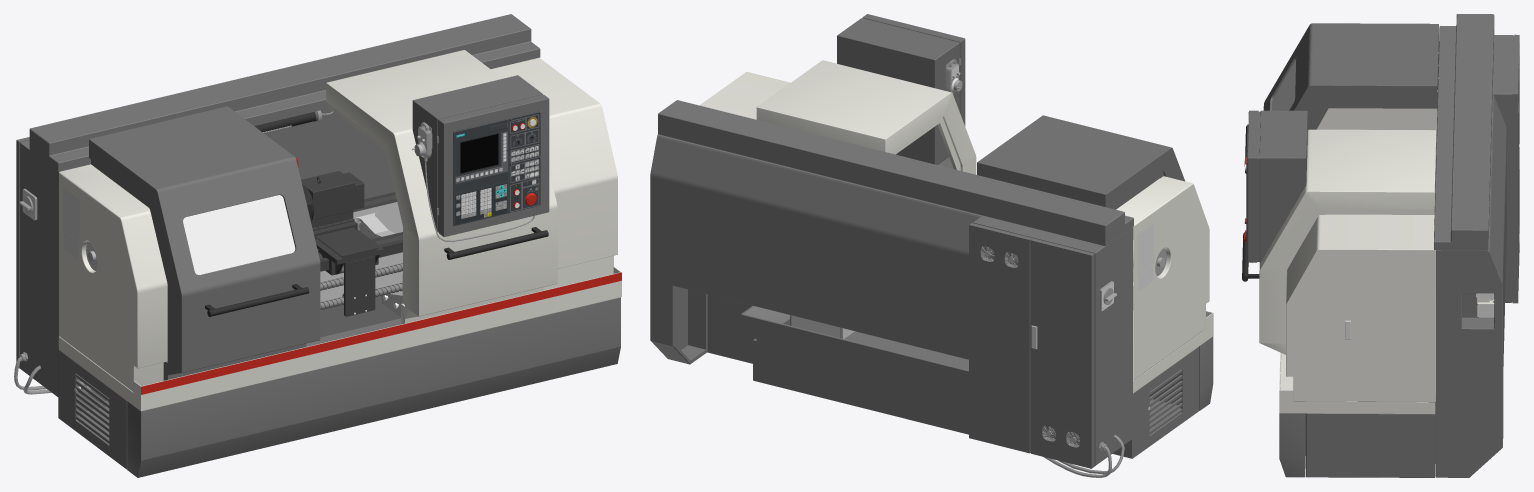
Rendered from machine3.glb.
3 renders of one model, left to right at view 1: azimuth 30°, elevation 25°; view 2: azimuth 150°, elevation 25°; view 3: azimuth 270°, elevation 25°, orthographic. The views are drawn at different scales.
Parts seen in each view (by area): view 1: Door, Object004_22 - Default_0, cak4085i:polySurface241, Object003_18 - Default_0, Object_18 - Default_0, cak4085i:polySurface238_18 - Default_0, polySurface1218, Shape001, Object005_22 - Default_0, cak4085i:polySurface13_cak4085i:lambert3_0, polySurface1219_18 - Def4_0, jc2_619_01 - Default_0 (+7 smaller); view 2: cak4085i:polySurface241, cak4085i:polySurface244, Object004_22 - Default_0, Object003_18 - Default_0, Object_18 - Default_0, Door, Object005_22 - Default_0, Shape001, cak4085i:polySurface238_18 - Default_0, cak4085i:polySurface234, polySurface1218, cak4085i:polySurface192_lambert18_0 (+1 smaller); view 3: cak4085i:polySurface241, cak4085i:polySurface238_18 - Default_0, Object003_18 - Default_0, Door, Object004_22 - Default_0, Shape001, Object_18 - Default_0, Object005_22 - Default_0, polySurface1218, cak4085i:polySurface244, polySurface1217.
Boxes of the visible parts, left/top/right/bottom form: Door: left=89, top=106, right=320, bottom=380; Object004_22 - Default_0: left=58, top=296, right=620, bottom=477; cak4085i:polySurface241: left=29, top=14, right=540, bottom=198; Object003_18 - Default_0: left=326, top=50, right=557, bottom=324; Object_18 - Default_0: left=59, top=164, right=167, bottom=391; cak4085i:polySurface238_18 - Default_0: left=491, top=57, right=617, bottom=290; polySurface1218: left=58, top=267, right=621, bottom=410; Shape001: left=412, top=75, right=549, bottom=236; Object005_22 - Default_0: left=20, top=140, right=80, bottom=396; cak4085i:polySurface13_cak4085i:lambert3_0: left=453, top=111, right=540, bottom=226; polySurface1219_18 - Def4_0: left=141, top=272, right=621, bottom=394; jc2_619_01 - Default_0: left=315, top=227, right=383, bottom=316; cak4085i:polySurface241: left=650, top=100, right=1133, bottom=364; cak4085i:polySurface244: left=969, top=222, right=1095, bottom=468; Object004_22 - Default_0: left=707, top=294, right=1213, bottom=458; Object003_18 - Default_0: left=756, top=60, right=976, bottom=174; Object_18 - Default_0: left=1116, top=176, right=1209, bottom=380; Door: left=977, top=115, right=1184, bottom=209; Object005_22 - Default_0: left=973, top=215, right=1132, bottom=465; Shape001: left=837, top=14, right=965, bottom=164; cak4085i:polySurface238_18 - Default_0: left=699, top=72, right=790, bottom=119; cak4085i:polySurface234: left=951, top=65, right=1153, bottom=349; polySurface1218: left=1133, top=311, right=1213, bottom=392; cak4085i:polySurface192_lambert18_0: left=945, top=59, right=1124, bottom=477; cak4085i:polySurface241: left=1434, top=14, right=1506, bottom=477; cak4085i:polySurface238_18 - Default_0: left=1286, top=214, right=1435, bottom=402; Object003_18 - Default_0: left=1259, top=129, right=1436, bottom=354; Door: left=1245, top=23, right=1438, bottom=173; Object004_22 - Default_0: left=1279, top=394, right=1435, bottom=477; Shape001: left=1247, top=110, right=1307, bottom=262; Object_18 - Default_0: left=1317, top=35, right=1439, bottom=205; Object005_22 - Default_0: left=1492, top=35, right=1512, bottom=302; polySurface1218: left=1279, top=352, right=1434, bottom=413; cak4085i:polySurface244: left=1511, top=34, right=1519, bottom=303; polySurface1217: left=1242, top=232, right=1259, bottom=281.
Size of the model in its own units: 8.12 by 4.79 by 4.31.
Materials: 39 (1 with a texture image).
